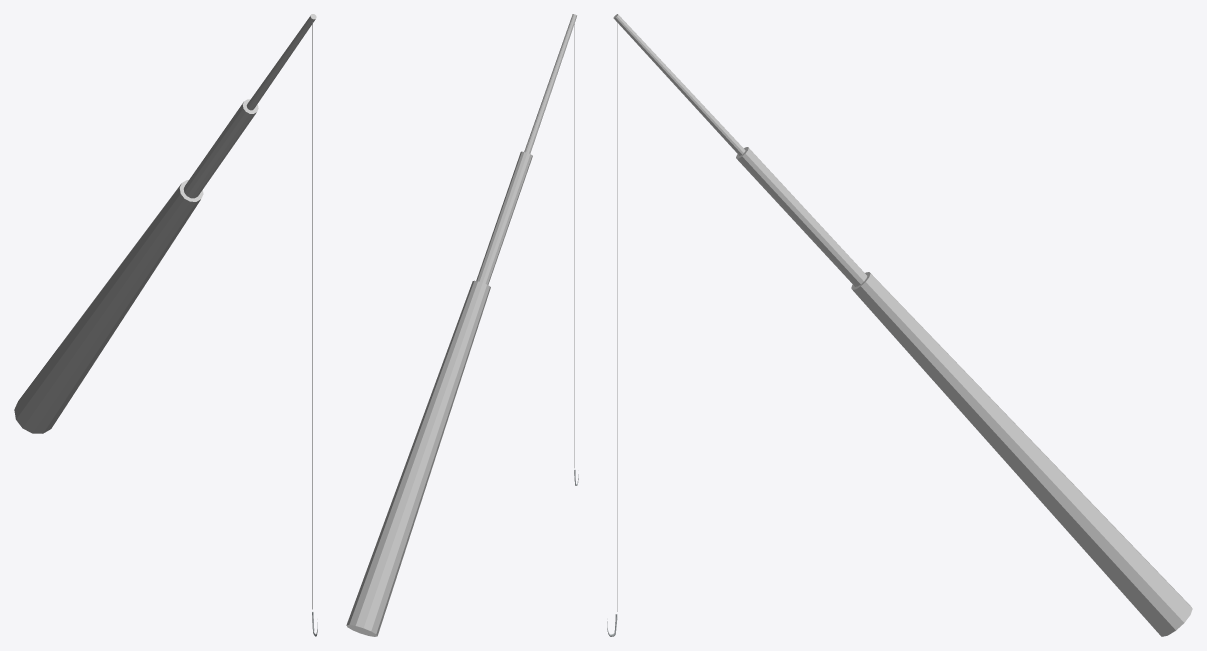
The model's file is Fishing Rod.fbx.
The picture shows the model from 3 angles, left to right: view 1: azimuth 30°, elevation 25°; view 2: azimuth 150°, elevation 25°; view 3: azimuth 270°, elevation 25°; orthographic projection. The views are drawn at different scales.
Parts seen in each view (by area): view 1: pasted__pCylinder1, pCylinder2; view 2: pasted__pCylinder1, pCylinder2; view 3: pasted__pCylinder1.
Boxes of the visible parts, x1,y1,x2,y2 form: pasted__pCylinder1: (14, 14, 316, 433); pCylinder2: (312, 22, 312, 609); pasted__pCylinder1: (346, 14, 576, 636); pCylinder2: (574, 24, 574, 467); pasted__pCylinder1: (613, 14, 1192, 636).
Bounding box in the file's own units: 0.8323 × 13.13 × 11.19.
